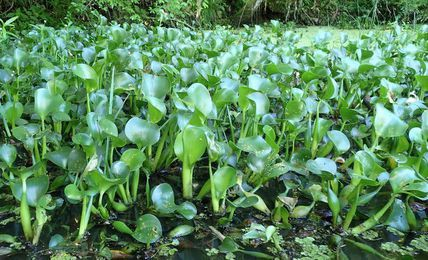water_hyacinth: (0, 56, 428, 260)
